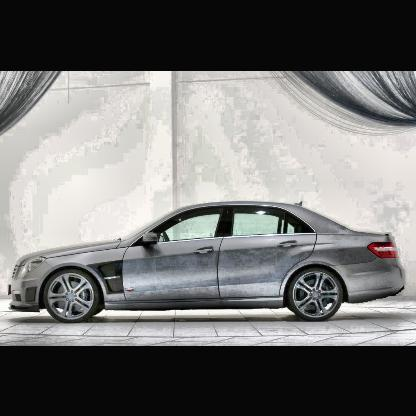Mercedes-Benz E-Class Sedan 2012: (9, 202, 408, 323)
